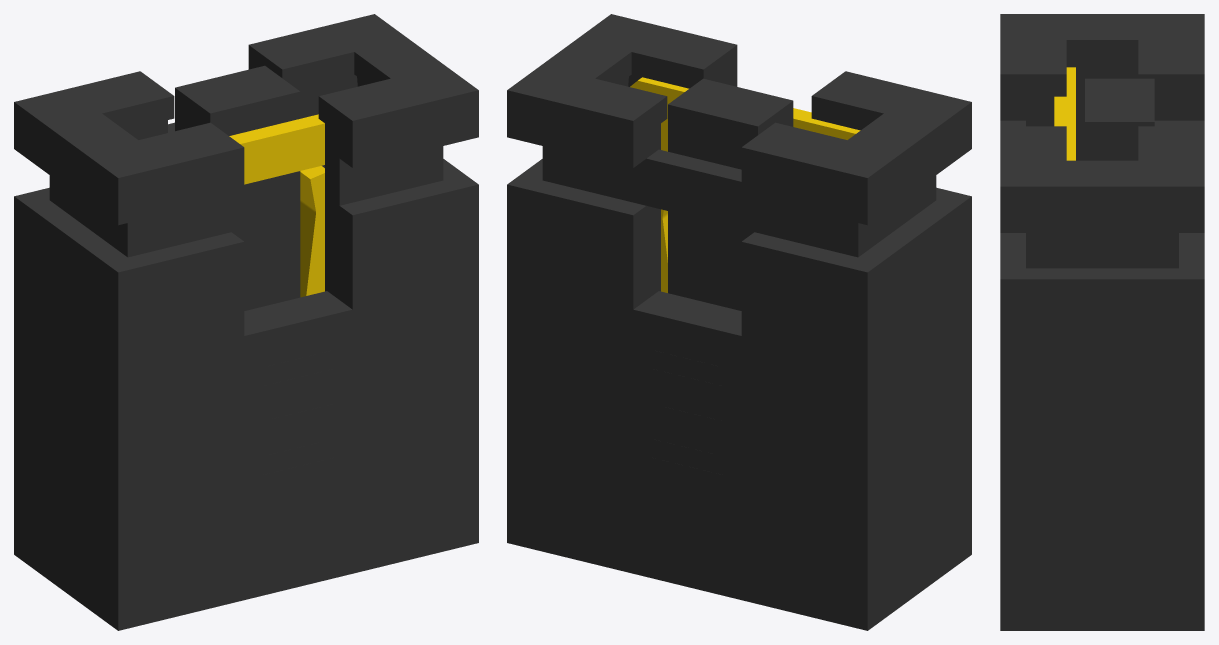
The picture shows the model from 3 angles, left to right: view 1: azimuth 30°, elevation 25°; view 2: azimuth 150°, elevation 25°; view 3: azimuth 270°, elevation 25°; orthographic projection.
Visible parts, largest first — view 1: snt-100-xx, c-37-x; view 2: snt-100-xx, c-37-x; view 3: snt-100-xx, c-37-x.
Part boxes in pixels (<box>): snt-100-xx: <box>14,14,478,630</box>; c-37-x: <box>229,114,324,297</box>; snt-100-xx: <box>507,14,971,630</box>; c-37-x: <box>630,77,860,292</box>; snt-100-xx: <box>1000,14,1204,630</box>; c-37-x: <box>1054,67,1075,160</box>.
Bounding box in the file's own units: 5.08 × 6.1 × 2.54.
